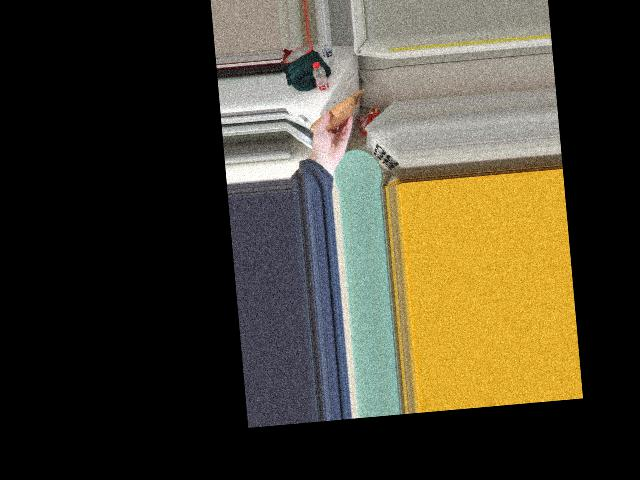sweet_potato: (310, 104, 349, 139)
